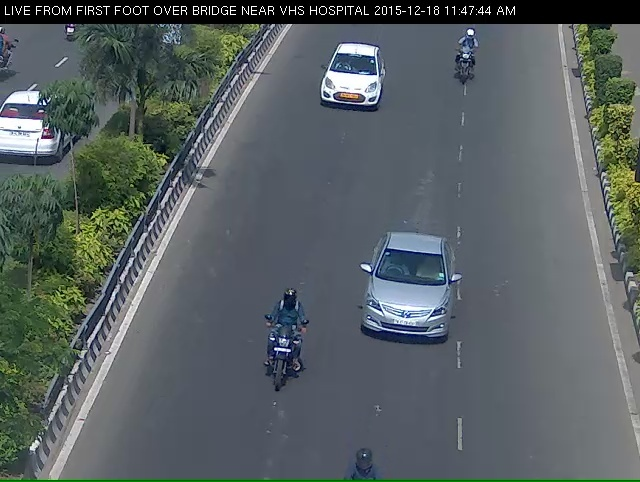Car: (342, 251, 469, 383), (313, 49, 386, 134)
Person: (247, 308, 299, 426), (447, 36, 487, 95)
